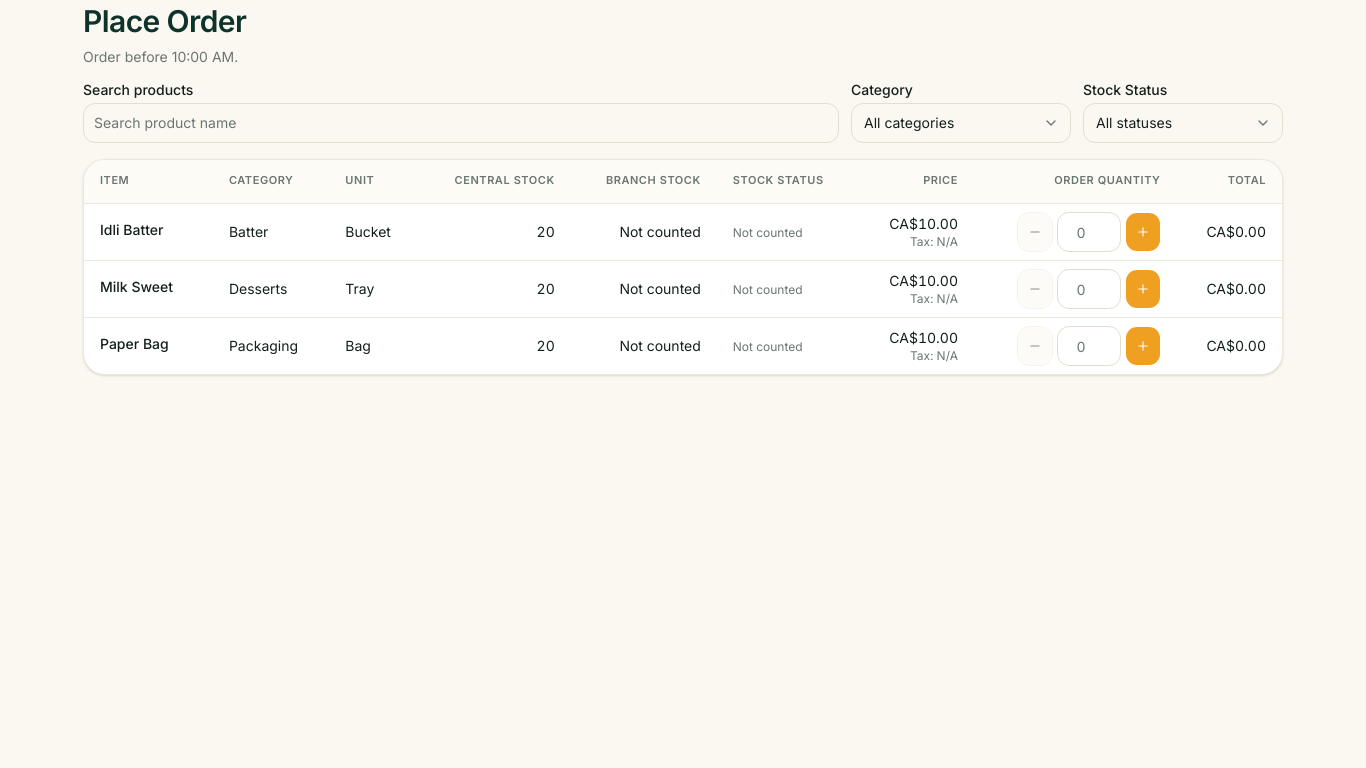
Test: table supports typing quantities and retains selections when filtered
This screenshot has width=1366, height=768.
Expected: the column heading "Order Quantity" is shown, [974,160,1176,204]
Type "3" into the number field with placeholder "0" in the row of "Idli Batter" at (1088, 232), box [1056,212,1120,252]
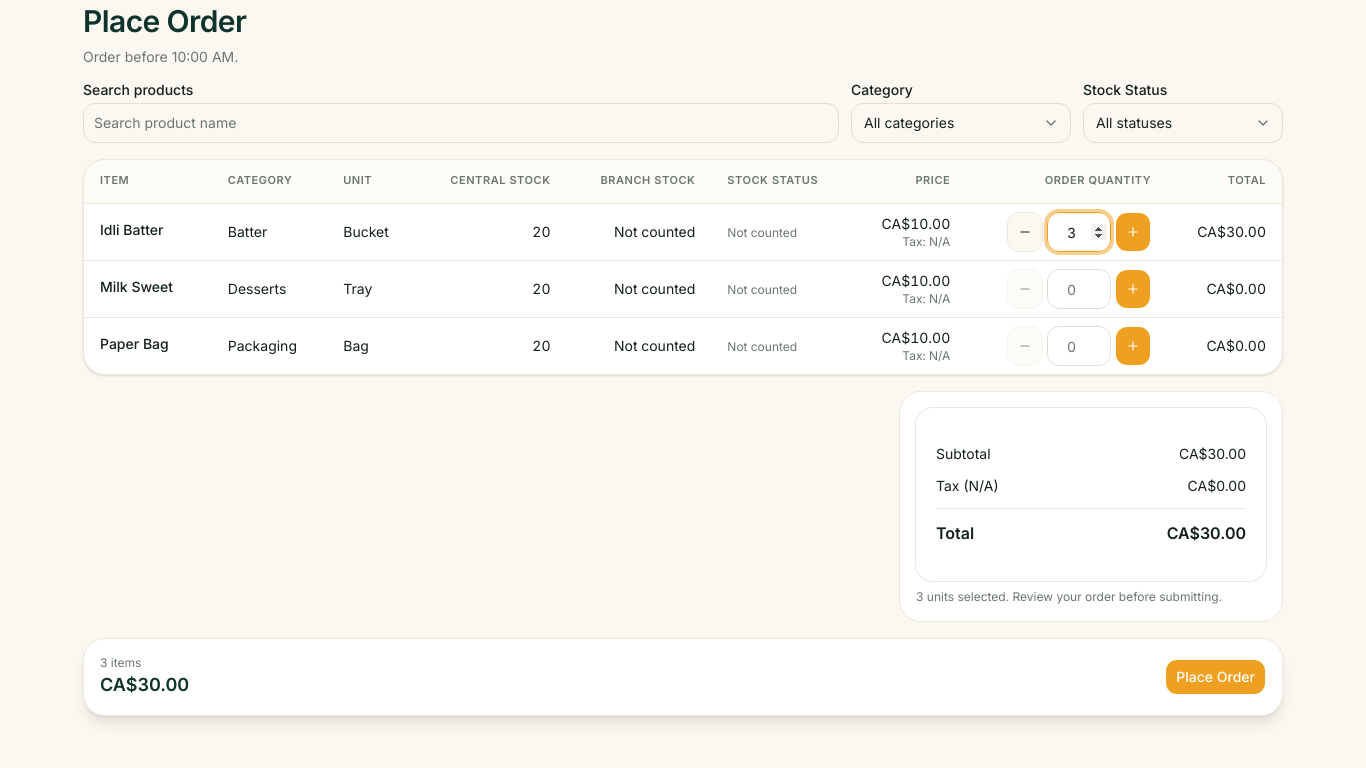
Select "Packaging" in the dropdown labelled "Category" at (961, 122), box [851,102,1071,142]
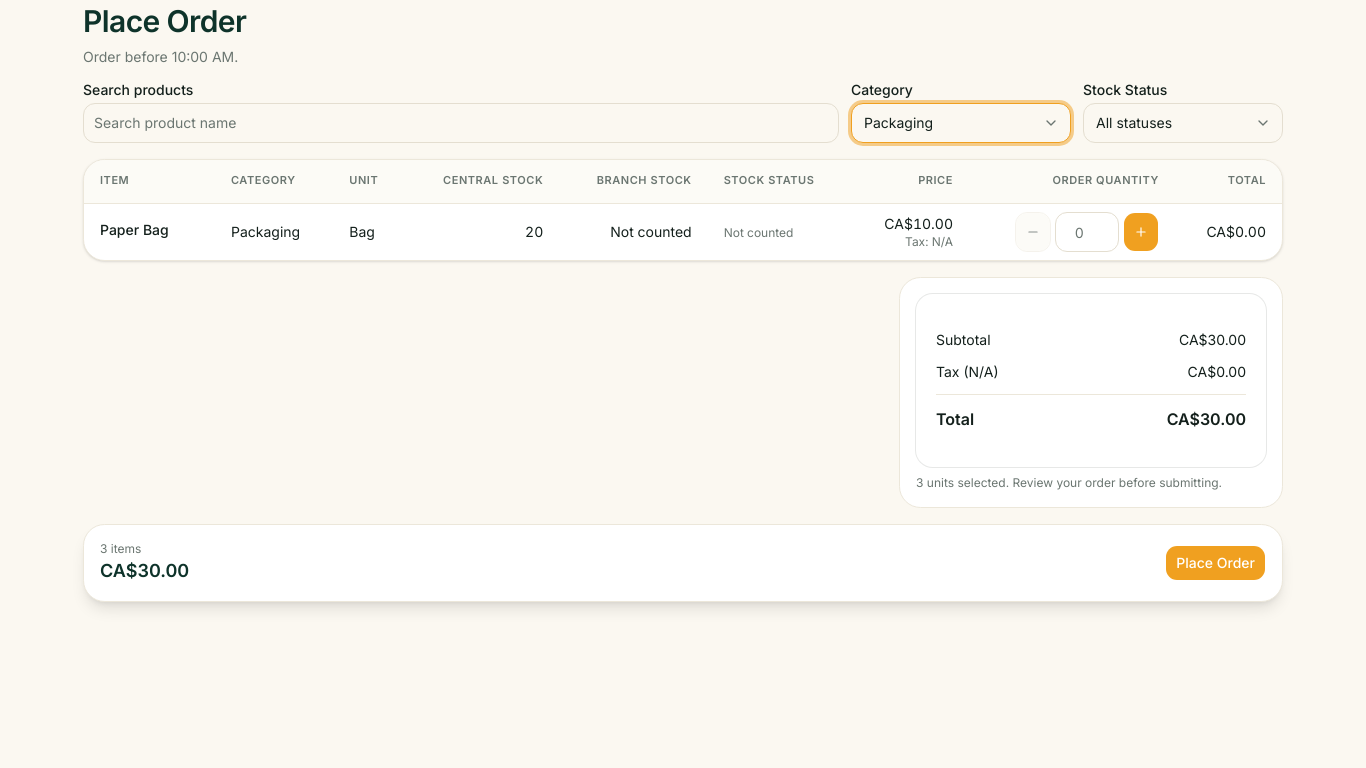
Click the button "Place Order" at (1216, 563), box [1165,545,1266,581]
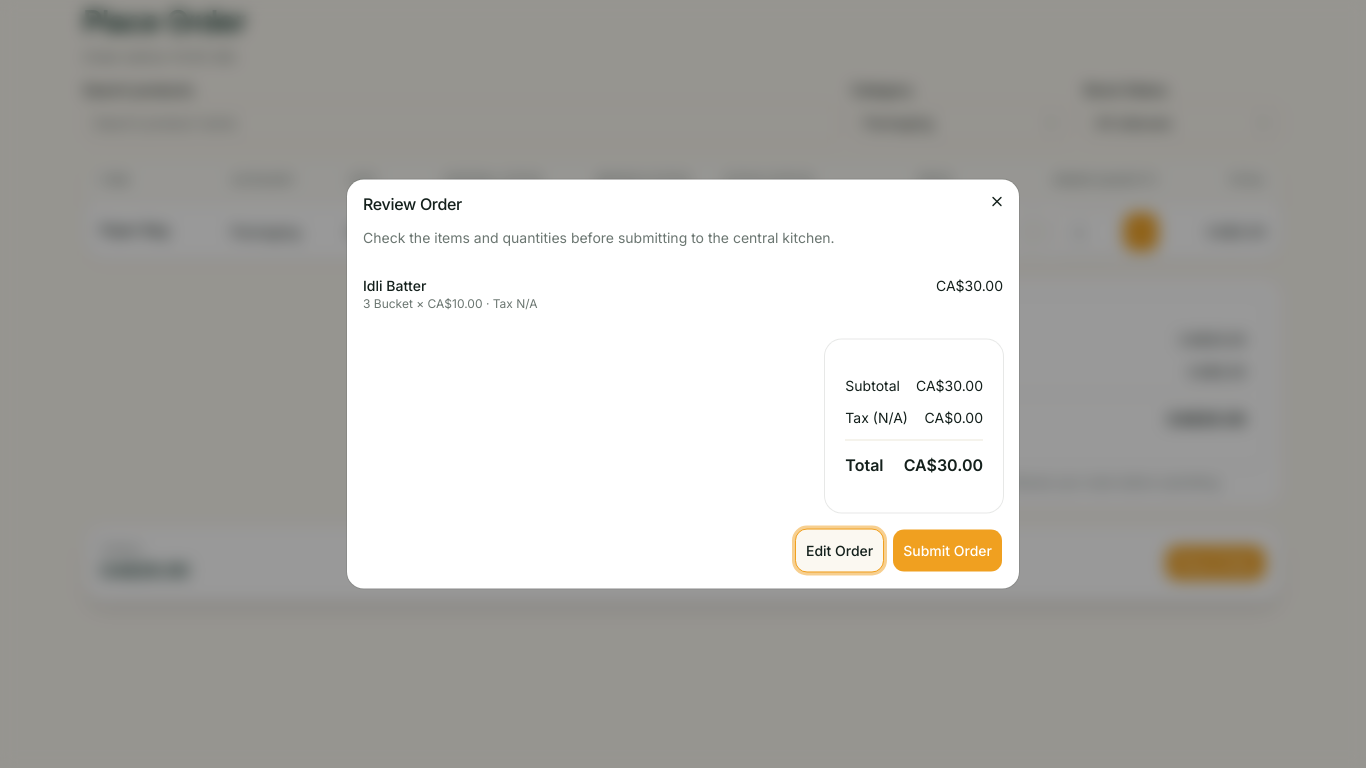
Now the text "Idli Batter" is shown, box [363,276,426,294]
Click the button "Edit Order" at (840, 550), box [795,528,884,572]
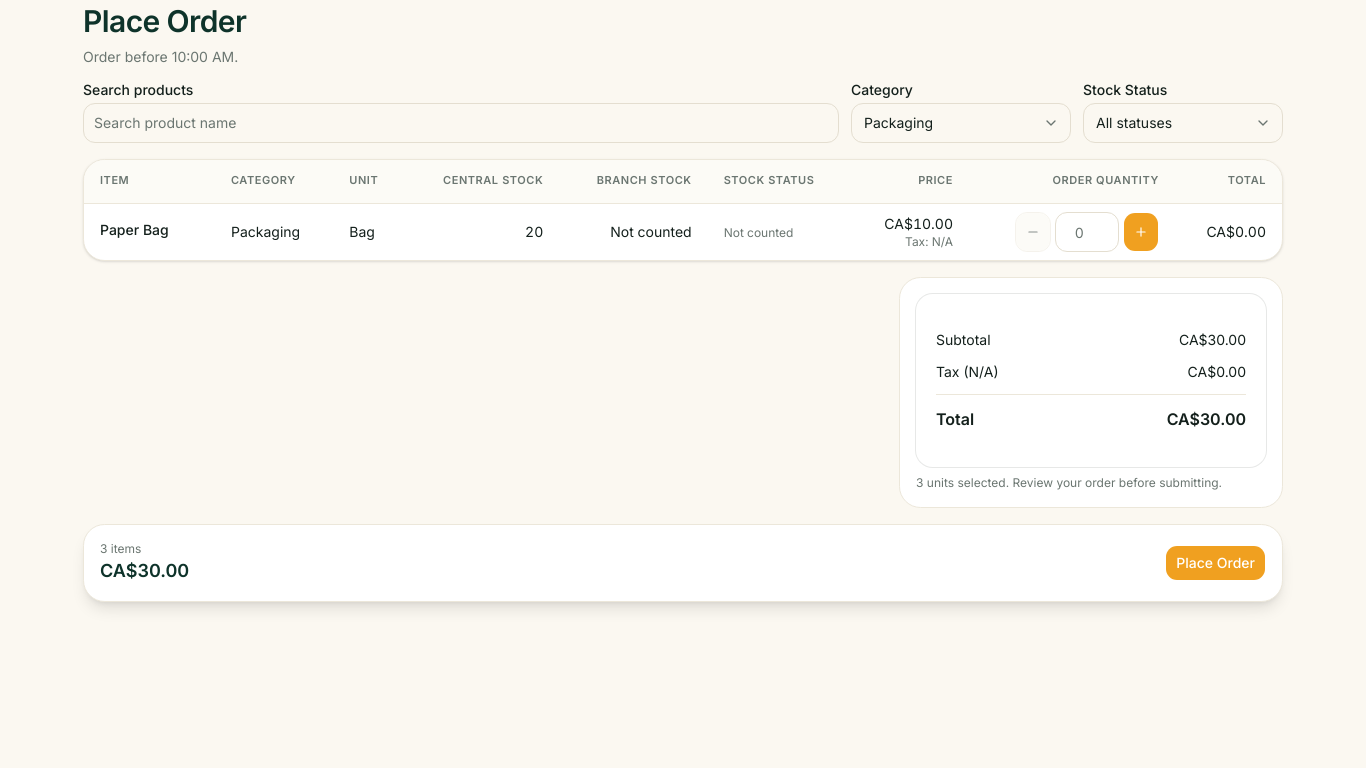
Select "All categories" in the dropdown labelled "Category" at (961, 122), box [851,102,1071,142]
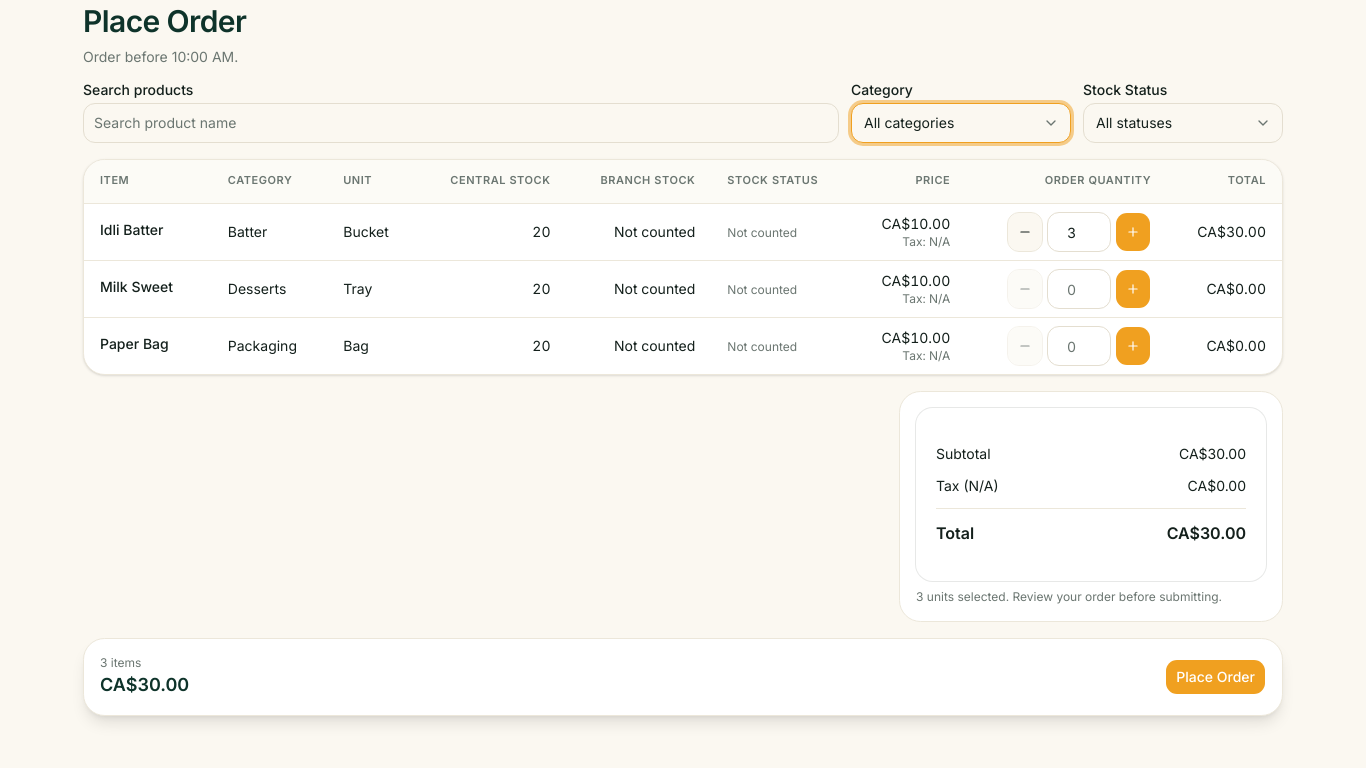
Type "paper" into the search field labelled "Search products" at (461, 122), box [83,102,839,142]
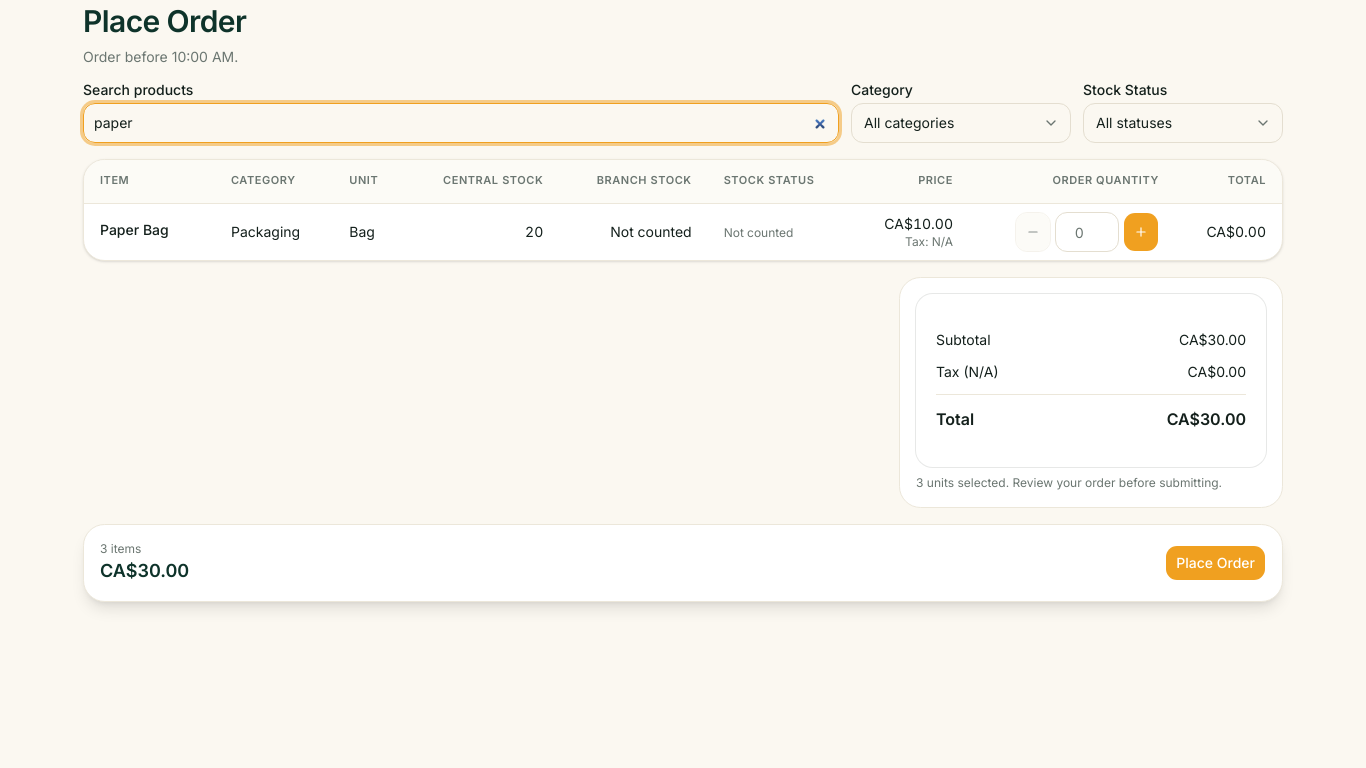
Expected: the text "Paper Bag" is shown, [100,221,169,238]
Now the text "Idli Batter" is gone
